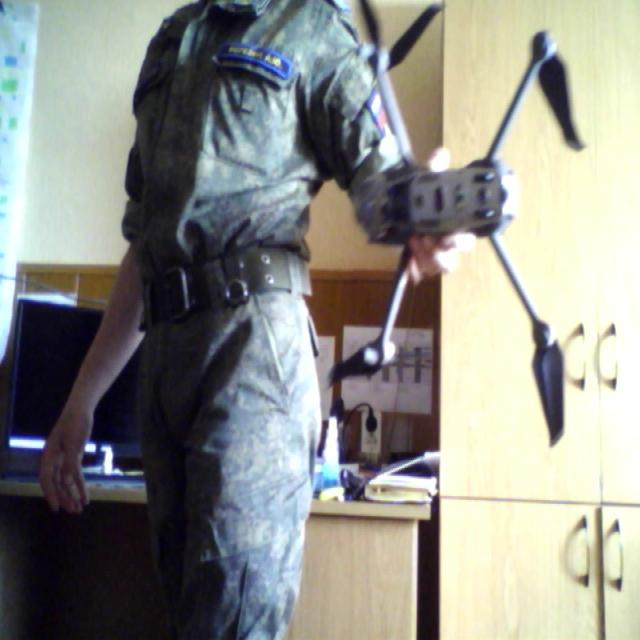drone: (339, 42, 588, 366)
